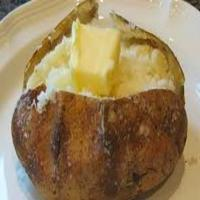biodegradable: (10, 0, 189, 200)
